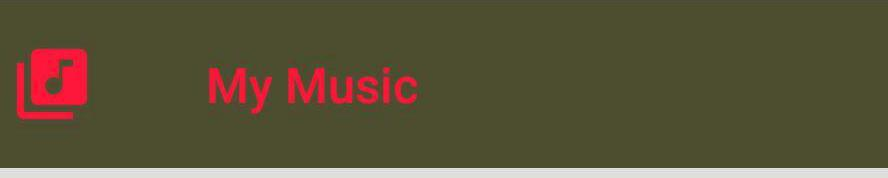CheckedTextView: (1, 1, 887, 177)
